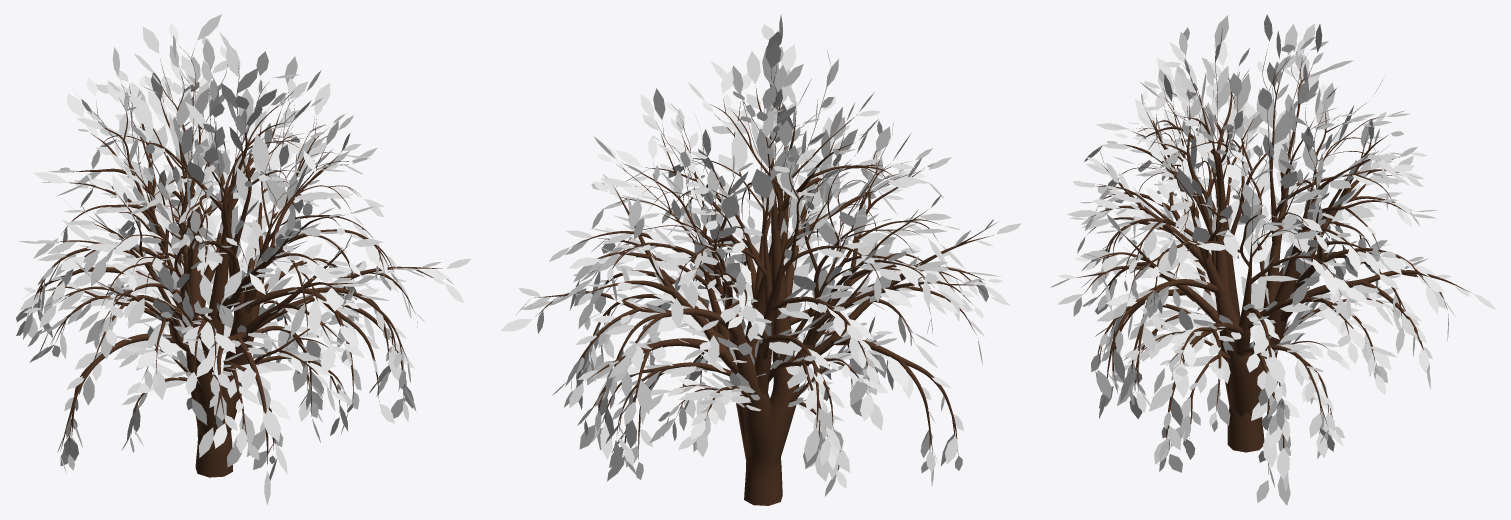
File: BuschOhneStacheln_v01.fbx
The picture shows the model from 3 angles, left to right: view 1: azimuth 30°, elevation 25°; view 2: azimuth 150°, elevation 25°; view 3: azimuth 270°, elevation 25°; orthographic projection. The views are drawn at different scales.
Visible parts, largest first — view 1: leaves, tree; view 2: leaves, tree; view 3: leaves, tree.
Part boxes in pixels (box(x1,y1,x2,y2)): leaves: box(16, 14, 470, 505); tree: box(34, 46, 442, 477); leaves: box(501, 14, 1020, 496); tree: box(534, 65, 993, 505); leaves: box(1050, 14, 1496, 505); tree: box(1076, 49, 1470, 474).
Size of the model in its own units: 258 by 259 by 242.
